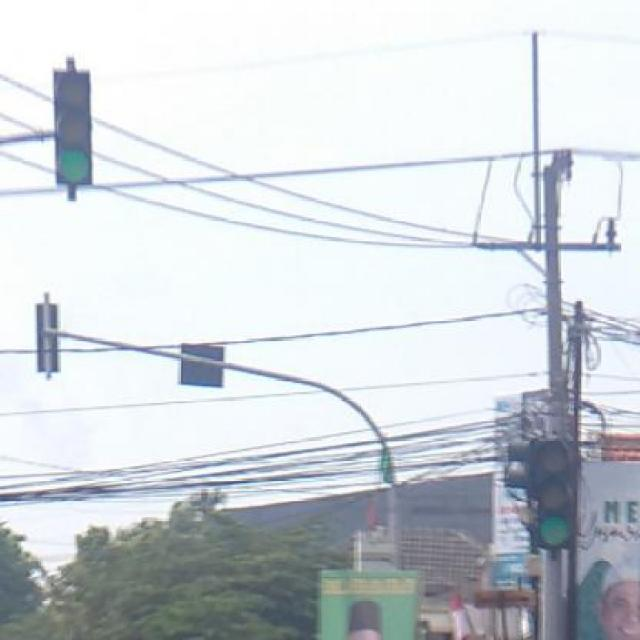traffic light: (530, 442, 582, 552), (56, 71, 93, 188)
